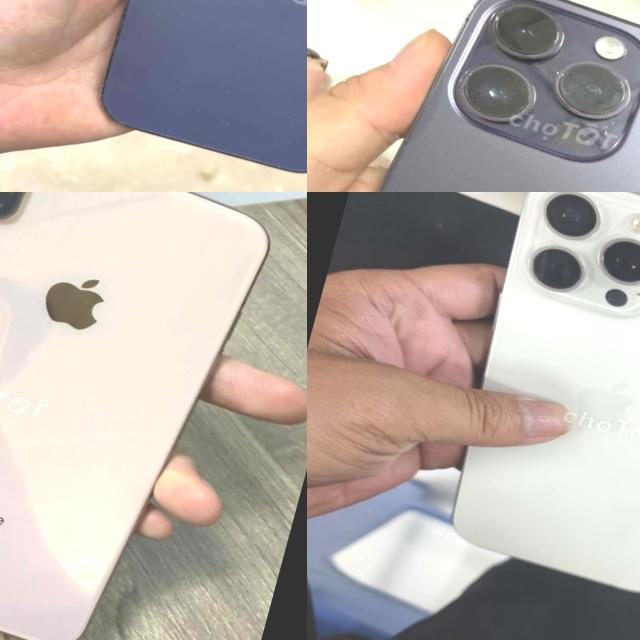gen_14: (307, 0, 640, 192), (85, 0, 307, 192)
gen_15: (369, 192, 640, 631)
gen_x_xs: (0, 192, 267, 640)
